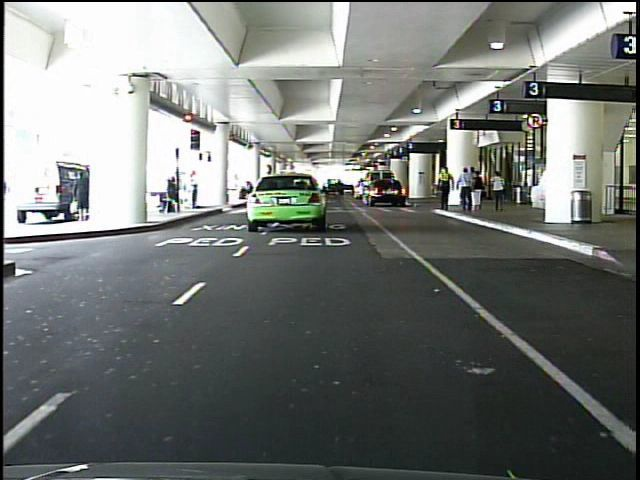person: (74, 170, 97, 223), (433, 165, 456, 216), (486, 170, 509, 217), (455, 166, 476, 216), (471, 170, 487, 215), (190, 169, 204, 213)
